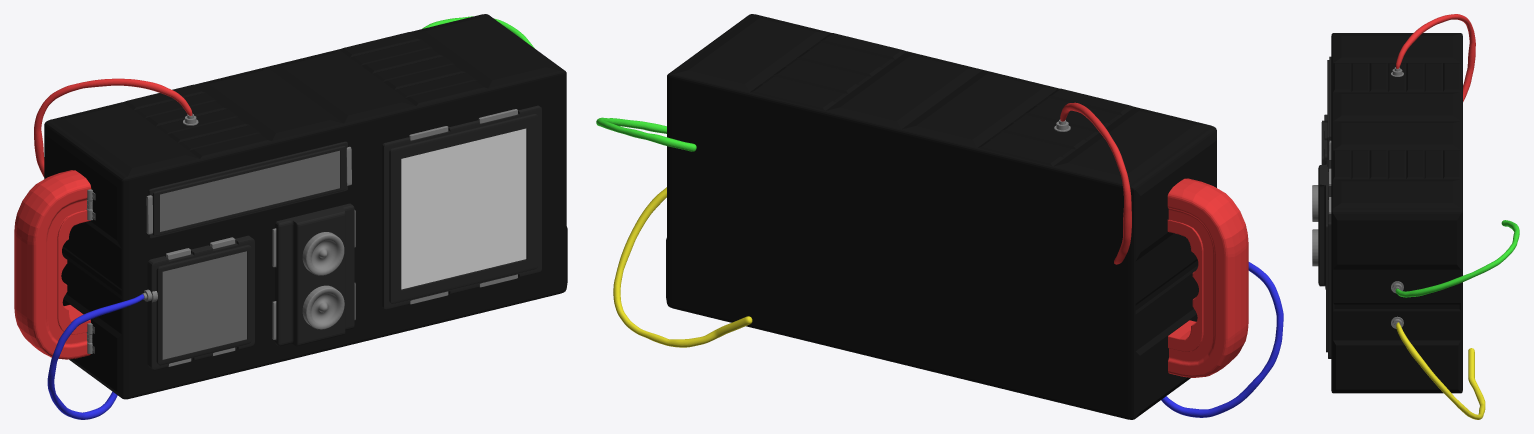
Rendered from Bomb.fbx.
3 renders of one model, left to right at view 1: azimuth 30°, elevation 25°; view 2: azimuth 150°, elevation 25°; view 3: azimuth 270°, elevation 25°, orthographic. The views are drawn at different scales.
Parts seen in each view (by area): view 1: Cube.009; view 2: Cube.009; view 3: Cube.009.
Boxes of the visible parts, <box> form: Cube.009: <box>14,14,567,419</box>; Cube.009: <box>596,14,1283,419</box>; Cube.009: <box>1312,14,1519,419</box>.
Size of the model in its own units: 2912 by 1469 by 1123.
